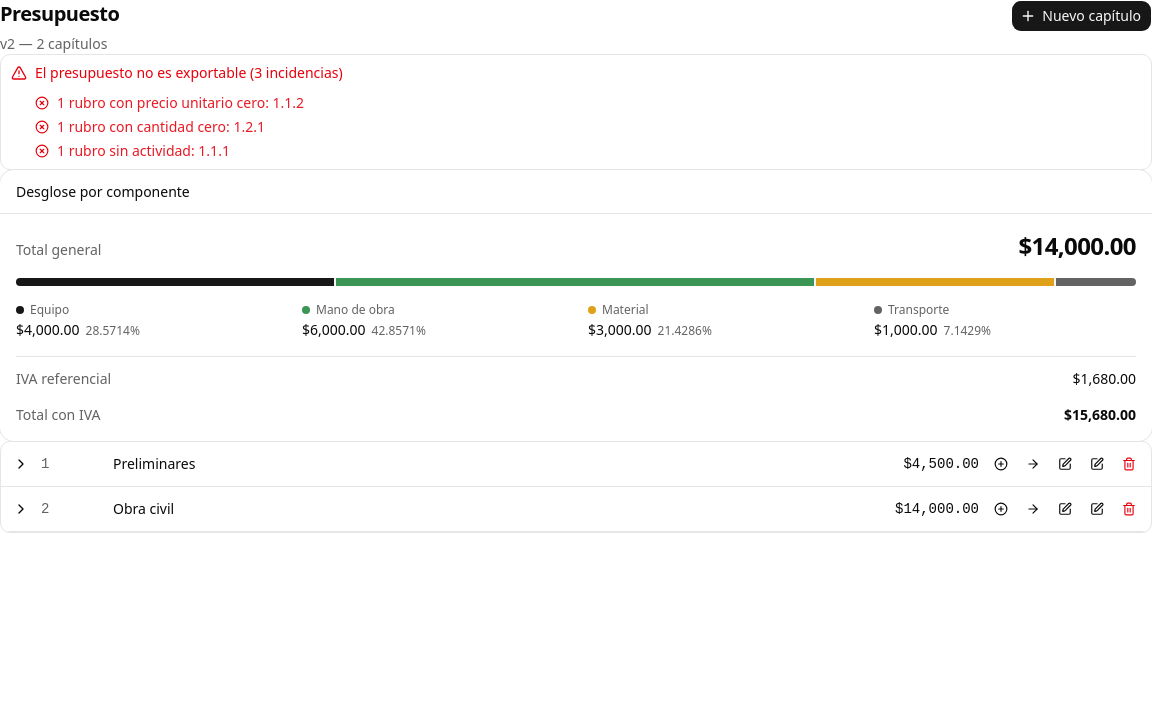
Scenario: PresupuestoPage › edita un capítulo desde el botón de editar
Expected: the text "v2 — 2 capítulos" is shown, [0,34,119,54]
Click the button titled "Editar descripción" next to "$4,500.00": (1097, 464) [1083,450,1111,478]
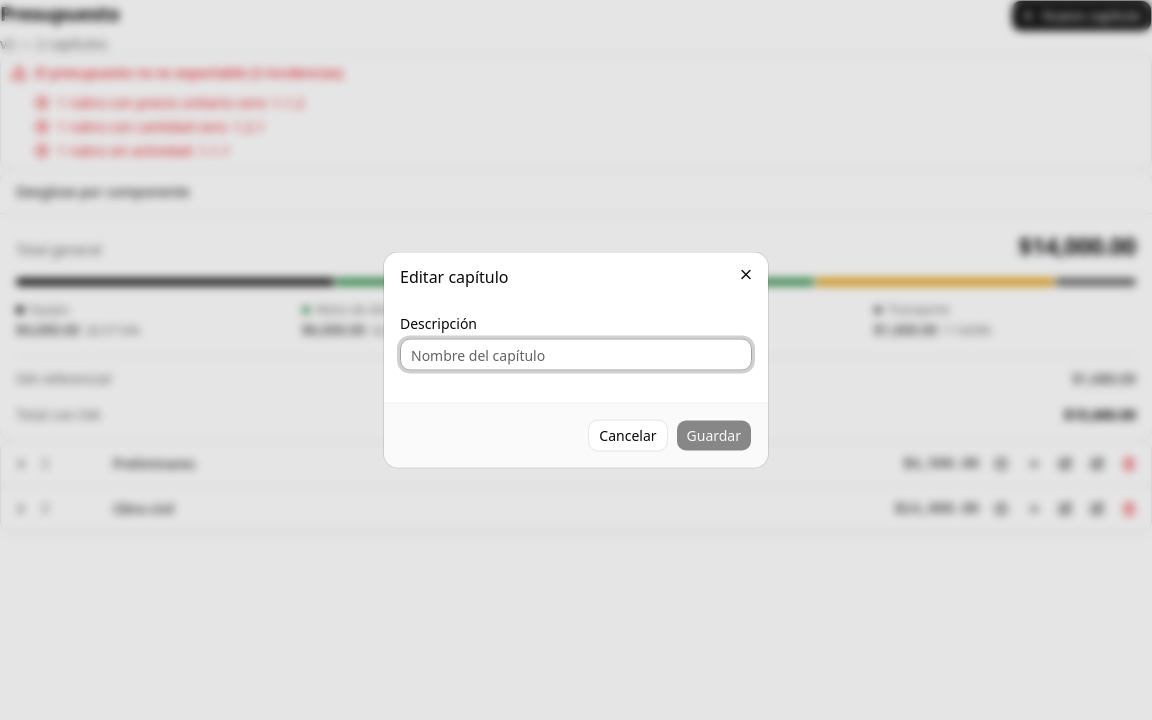
Expected: the heading "Editar capítulo" is shown, [400,266,508,288]
